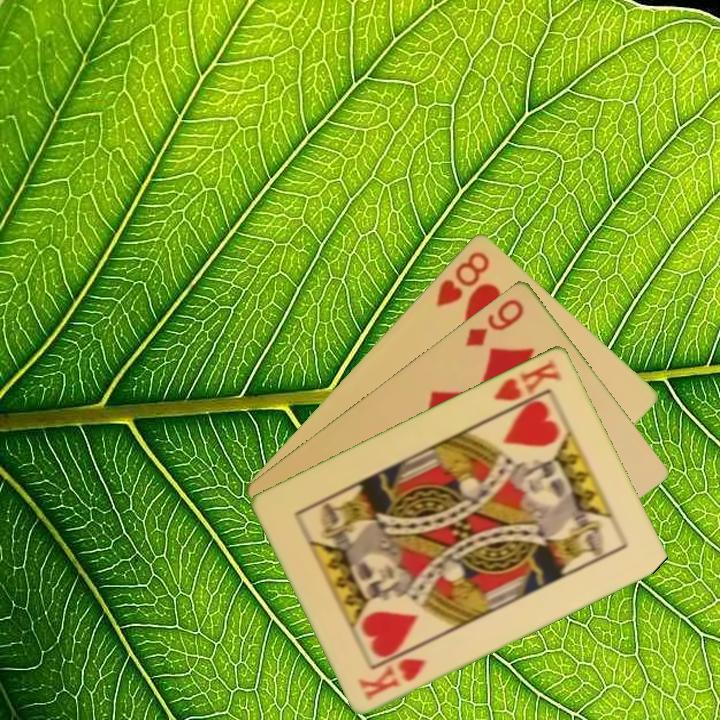8h: (432, 247, 493, 310)
9d: (461, 294, 527, 349)
Kh: (490, 354, 564, 416), (355, 653, 429, 703)
